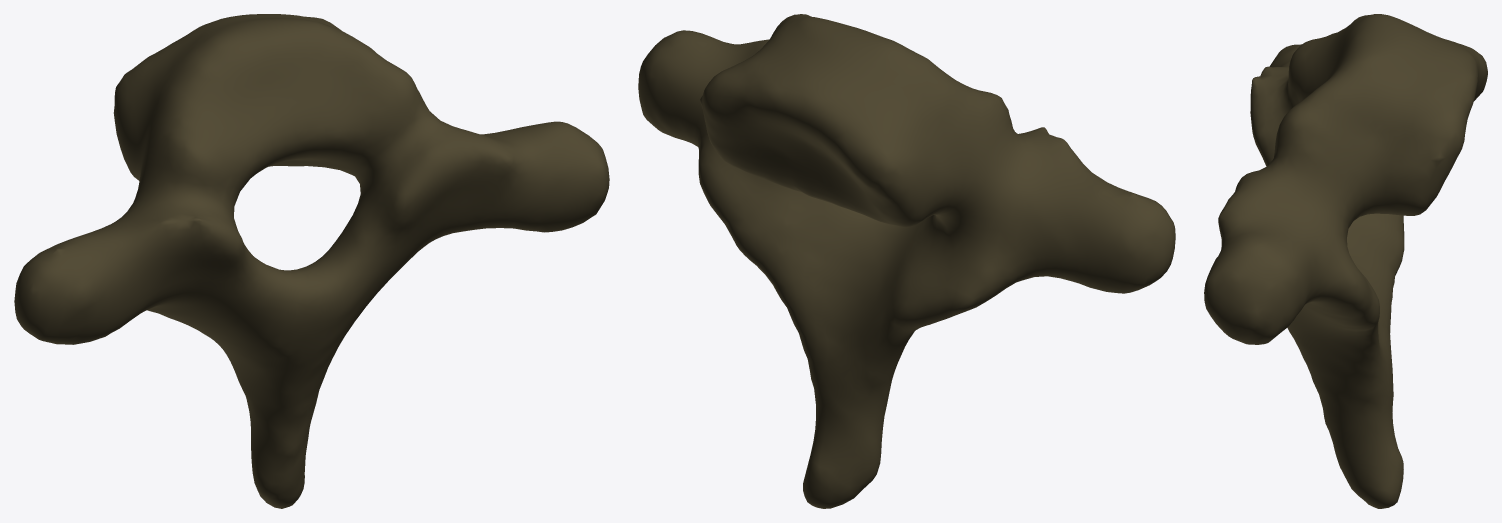
The model's file is segmentations_vertebrae_T1.obj.
3 views of the same model, side by side, from view 1: azimuth 30°, elevation 25°; view 2: azimuth 150°, elevation 25°; view 3: azimuth 270°, elevation 25° (orthographic). The views are drawn at different scales.
Parts seen in each view (by area): view 1: grp1; view 2: grp1; view 3: grp1.
Part boxes in pixels (bbox=[...]): grp1: bbox=[14, 14, 609, 508]; grp1: bbox=[638, 14, 1175, 508]; grp1: bbox=[1204, 14, 1487, 508].
Bounding box in the file's own units: 50.59 × 41.81 × 23.16.
